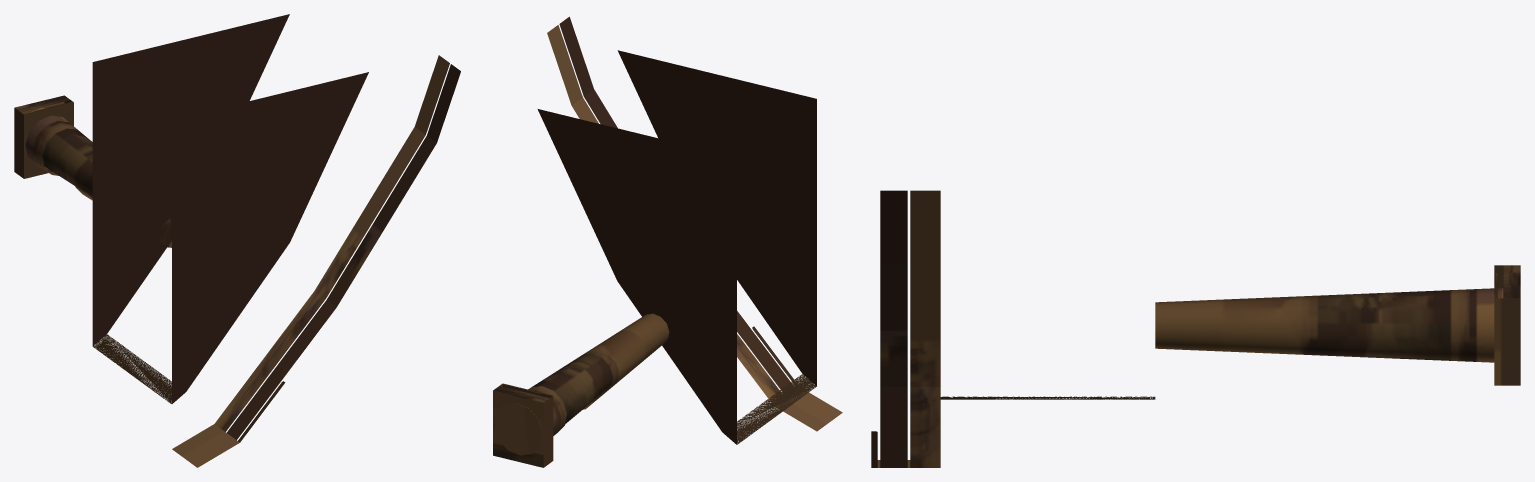
Rendered from section-3.obj.
The picture shows the model from 3 angles, left to right: view 1: azimuth 30°, elevation 25°; view 2: azimuth 150°, elevation 25°; view 3: azimuth 270°, elevation 25°; orthographic projection. The views are drawn at different scales.
Bounding box in the file's own units: 0.7204 × 0.8483 × 1.12.
